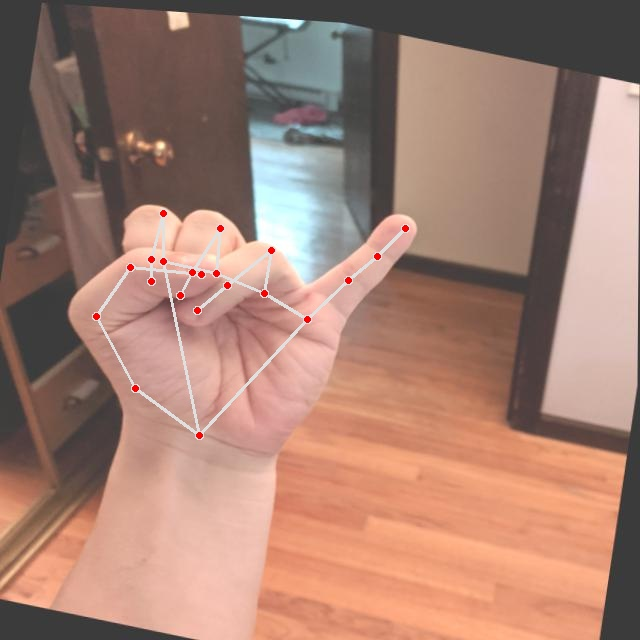I: (46, 137, 430, 481)
